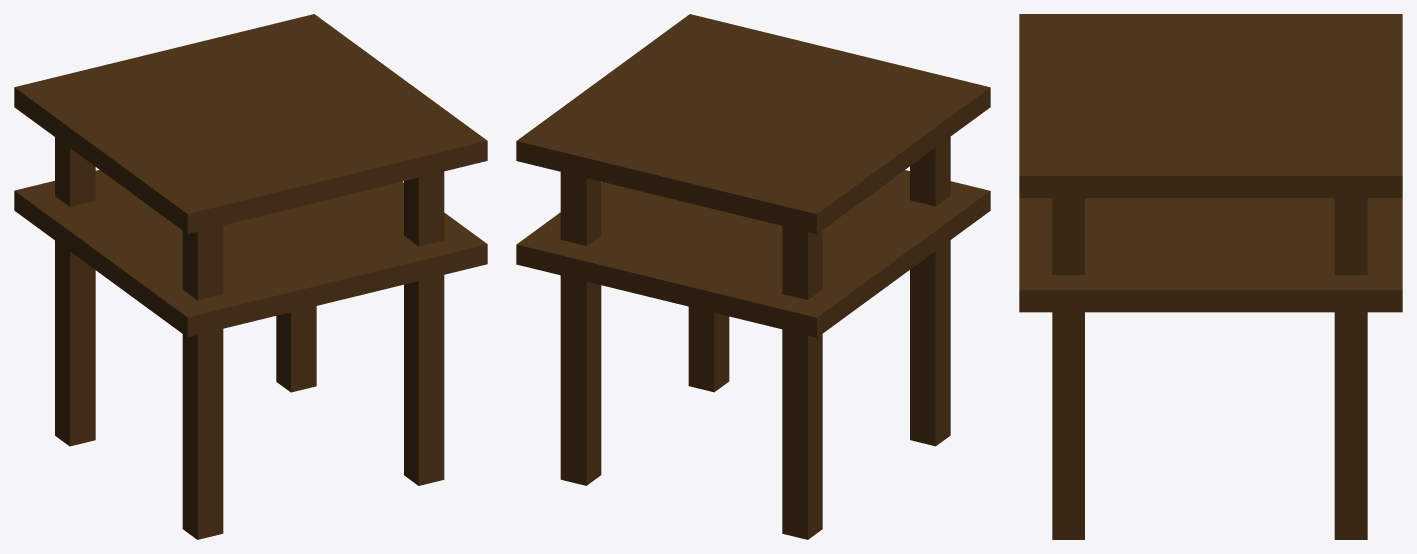
Rendered from table.fbx.
The picture shows the model from 3 angles, left to right: view 1: azimuth 30°, elevation 25°; view 2: azimuth 150°, elevation 25°; view 3: azimuth 270°, elevation 25°; orthographic projection. The views are drawn at different scales.
Visible parts, largest first — view 1: Cube.005, Cube.006, Cube, Cube.004, Cube.001, Cube.003; view 2: Cube.005, Cube.006, Cube.003, Cube.001, Cube, Cube.004; view 3: Cube.005, Cube.006, Cube.003, Cube.004.
Part boxes in pixels (x1,y1,x2,y2): Cube.005: [14, 14, 487, 233]; Cube.006: [14, 170, 487, 337]; Cube: [182, 225, 223, 539]; Cube.004: [404, 171, 444, 485]; Cube.001: [55, 137, 95, 446]; Cube.003: [276, 306, 316, 392]; Cube.005: [516, 14, 990, 234]; Cube.006: [516, 170, 990, 337]; Cube.003: [560, 172, 601, 485]; Cube.001: [782, 226, 822, 539]; Cube: [910, 137, 950, 446]; Cube.004: [688, 306, 729, 392]; Cube.005: [1019, 14, 1402, 197]; Cube.006: [1019, 198, 1402, 312]; Cube.003: [1334, 198, 1367, 539]; Cube.004: [1052, 198, 1084, 539].
Bounding box in the file's own units: 51.67 × 56.41 × 51.67.
